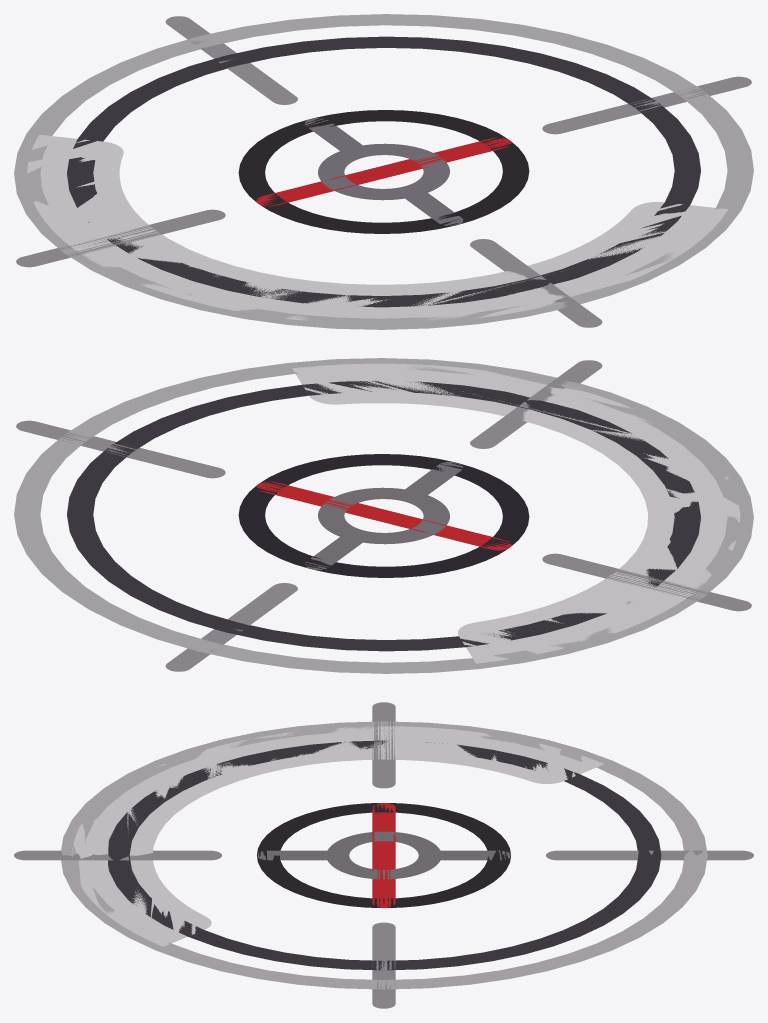
File: syut.obj
3 renders of one model, top to bottom at view 1: azimuth 30°, elevation 25°; view 2: azimuth 150°, elevation 25°; view 3: azimuth 270°, elevation 25°, orthographic. The views are drawn at different scales.
Parts seen in each view (by area): view 1: Curve, Curve.001, Curve.002, Curve.009, Curve.003, Curve.008, Curve.006, Curve.007, Curve.004, Curve.005; view 2: Curve, Curve.001, Curve.002, Curve.009, Curve.003, Curve.008, Curve.007, Curve.006, Curve.004, Curve.005; view 3: Curve, Curve.001, Curve.002, Curve.009, Curve.003, Curve.008, Curve.004, Curve.006, Curve.005, Curve.007.
Boxes of the visible parts, x1,y1,x2,y2 form: Curve: (27,134,728,322); Curve.001: (14,14,753,329); Curve.002: (67,36,700,307); Curve.009: (238,110,529,233); Curve.003: (304,118,463,225); Curve.008: (256,137,511,206); Curve.006: (542,76,751,134); Curve.007: (16,209,225,267); Curve.004: (165,16,297,104); Curve.005: (470,239,602,327); Curve: (292,363,740,663); Curve.001: (14,358,753,673); Curve.002: (67,380,700,651); Curve.009: (238,454,529,577); Curve.003: (305,462,463,569); Curve.008: (256,481,511,550); Curve.007: (542,553,751,611); Curve.006: (16,420,225,478); Curve.004: (165,583,297,671); Curve.005: (470,360,602,448); Curve: (72,726,604,946); Curve.001: (61,721,707,989); Curve.002: (108,740,661,970); Curve.009: (257,803,510,907); Curve.003: (257,831,510,879); Curve.008: (372,803,395,907); Curve.004: (546,850,753,860); Curve.006: (372,922,395,1008); Curve.005: (14,850,221,860); Curve.007: (372,702,395,788).
Size of the model in its own units: 6.12 by 0.0513 by 6.13.
